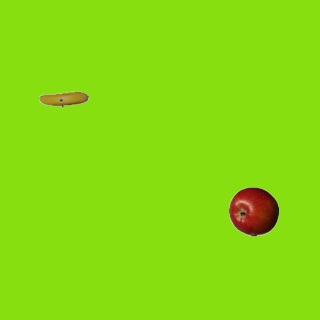Apple Braeburn: (228, 186, 278, 236)
Banana: (38, 74, 88, 124)
